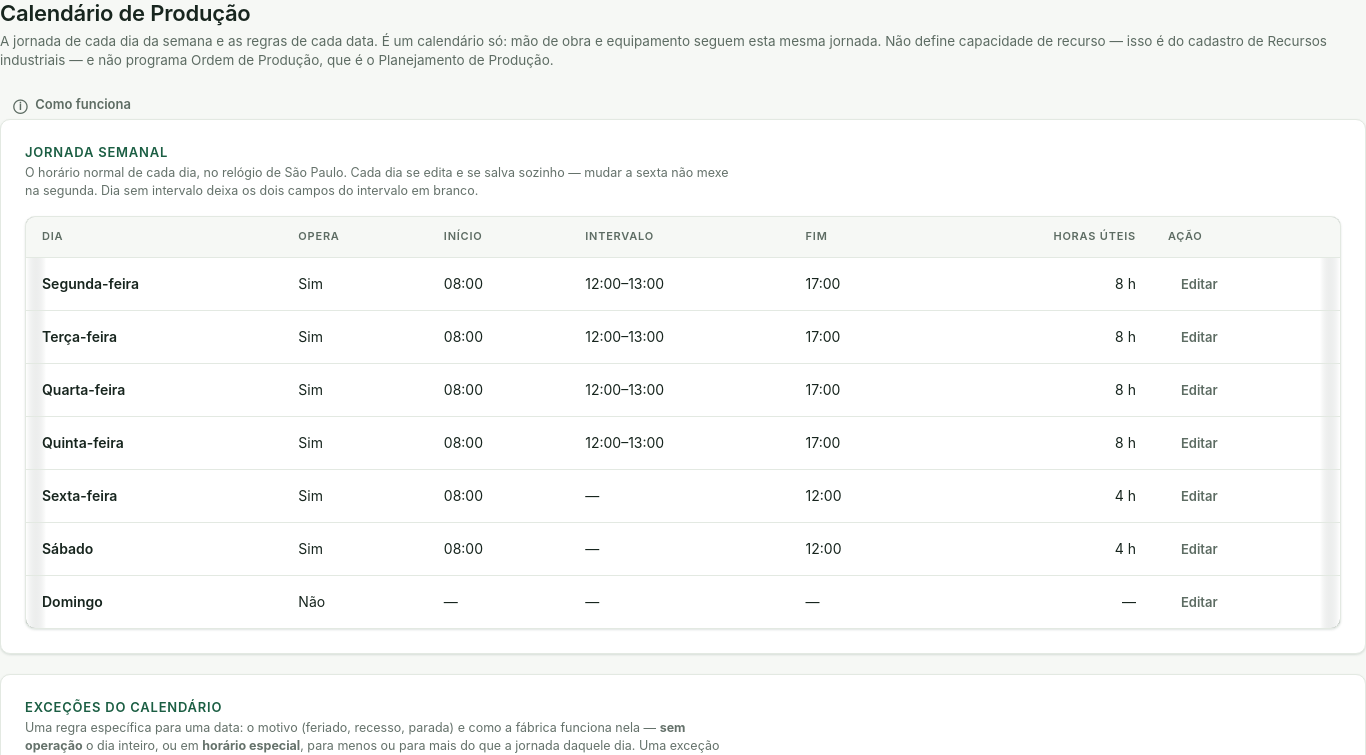
Test: jornada semanal — sete linhas › cancelar devolve a linha ao que está gravado, sem tocar nas outras
Click the 5th button "Editar" at {"x": 1199, "y": 496}, box [1168,482,1231,510]
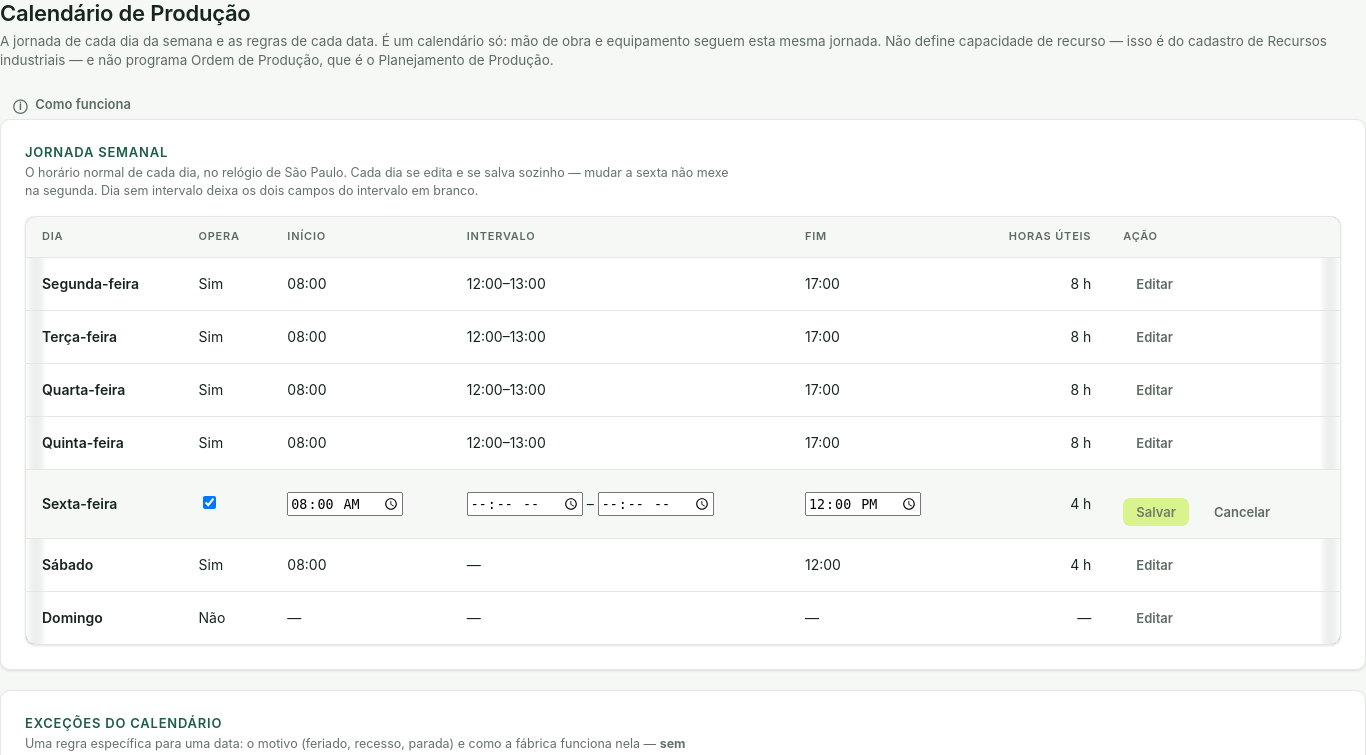
Replace the text in the time field named "Fim — Sexta-feira" with "16:00" at {"x": 863, "y": 504}, box [805,492,921,516]
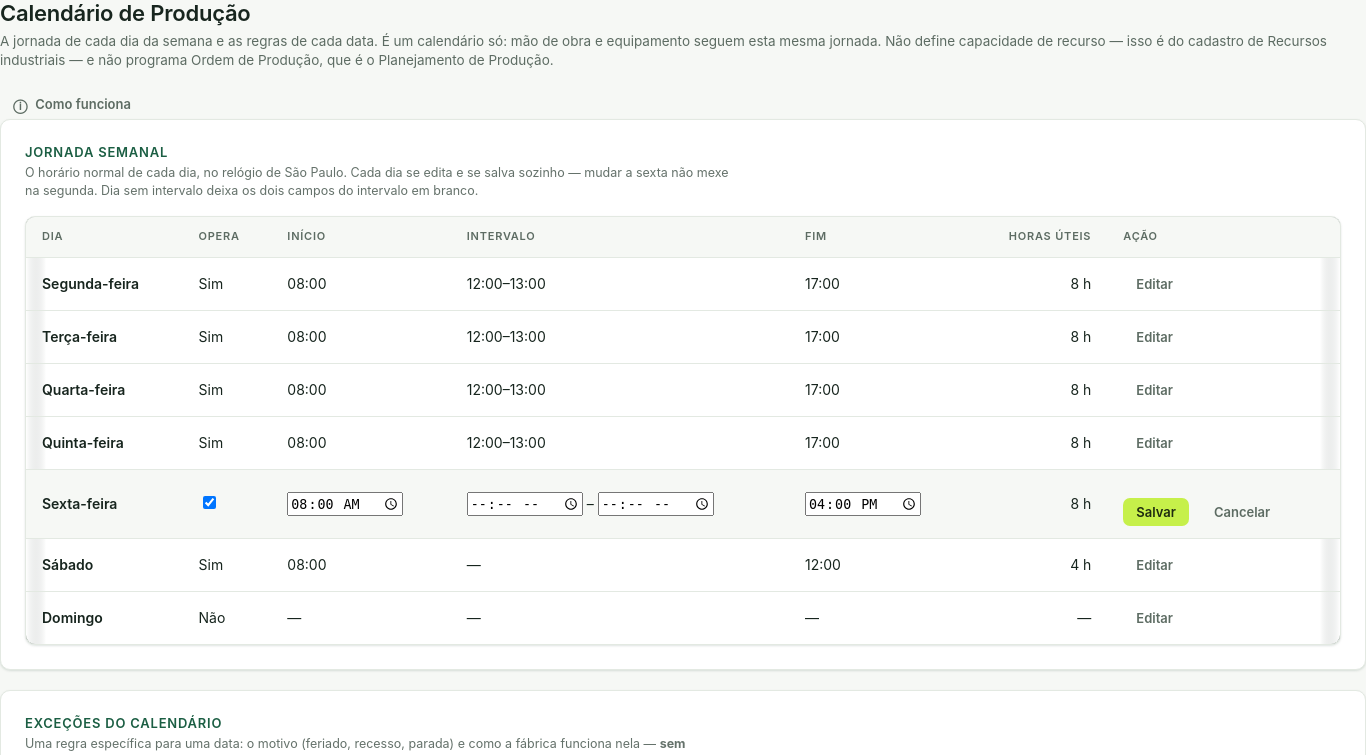
Click the button "Cancelar" at {"x": 1242, "y": 512}, box [1201,498,1283,526]
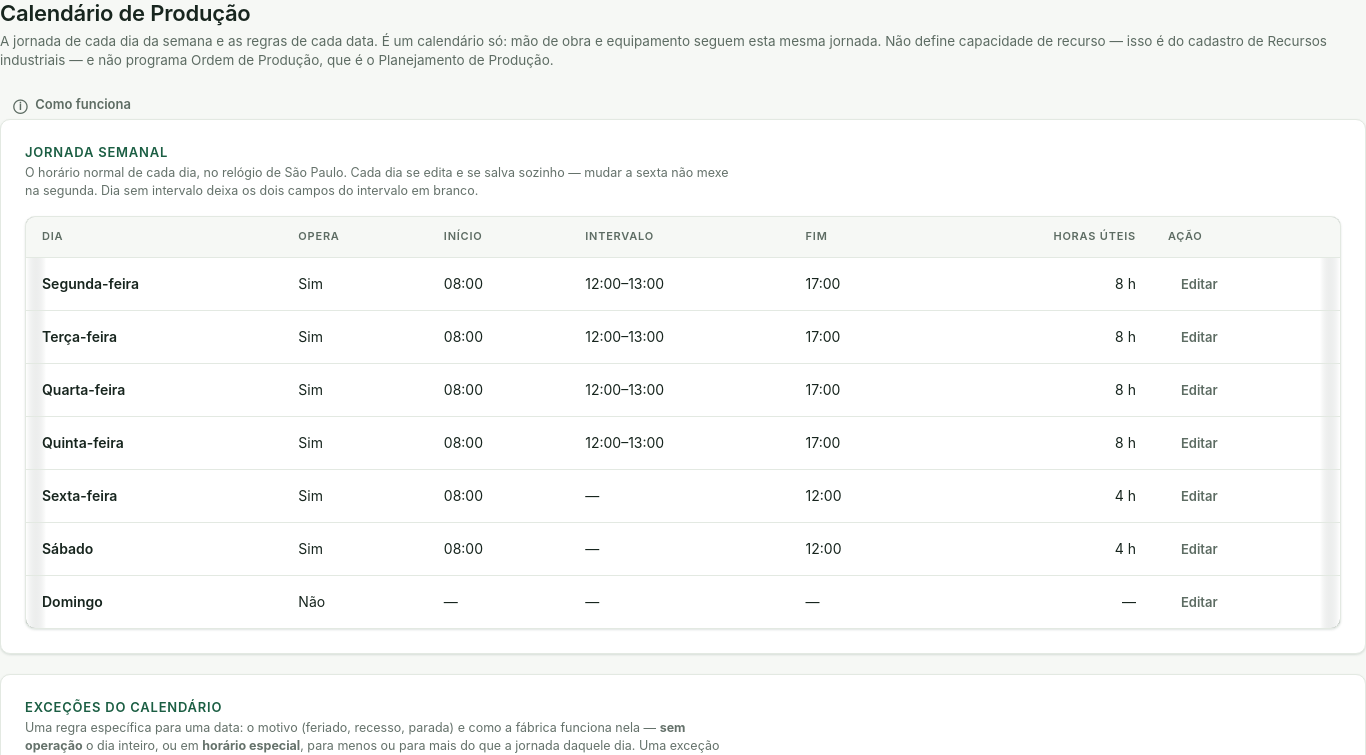
Expected: the text "16:00" is not shown
Now the 1st text "12:00" is shown, box [806,487,842,504]
Click the 5th button "Editar" at {"x": 1199, "y": 496}, box [1168,482,1231,510]
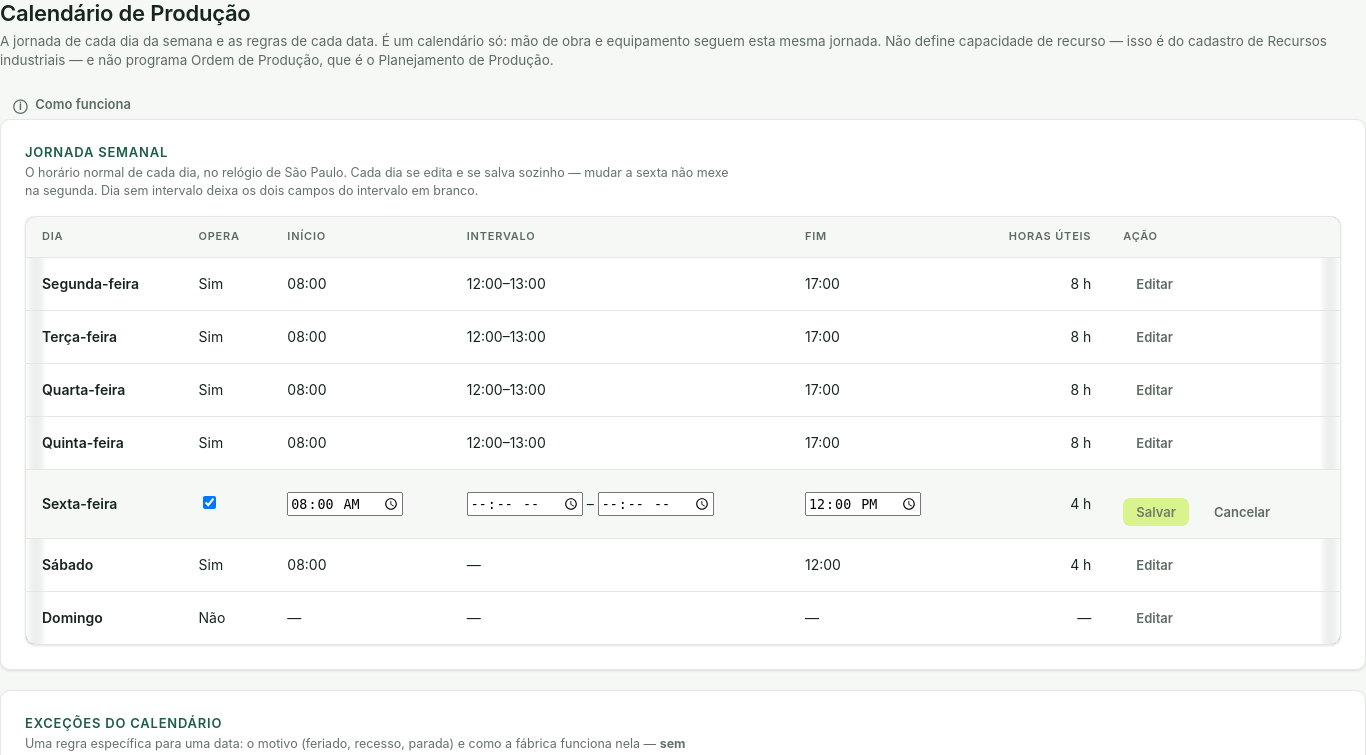
Now the time field named "Fim — Sexta-feira" holds "12:00", box [805,492,921,516]
